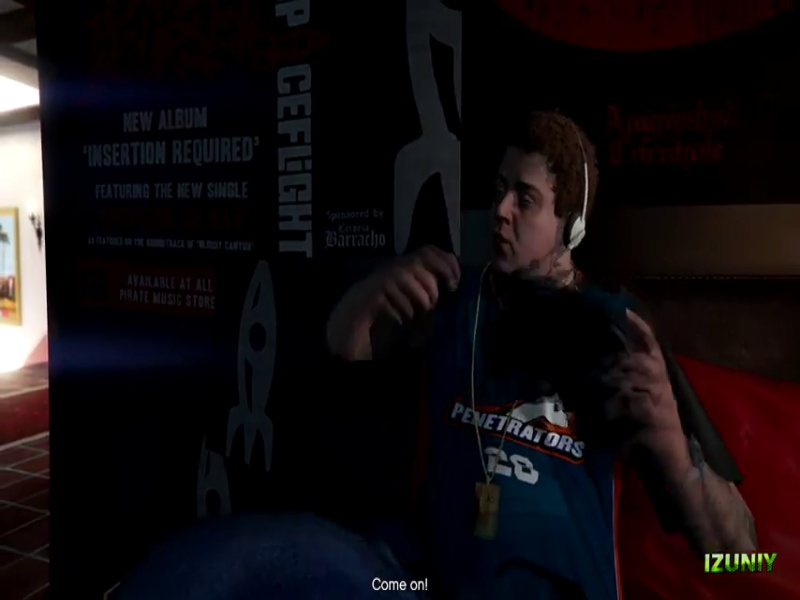human: (349, 104, 756, 595)
